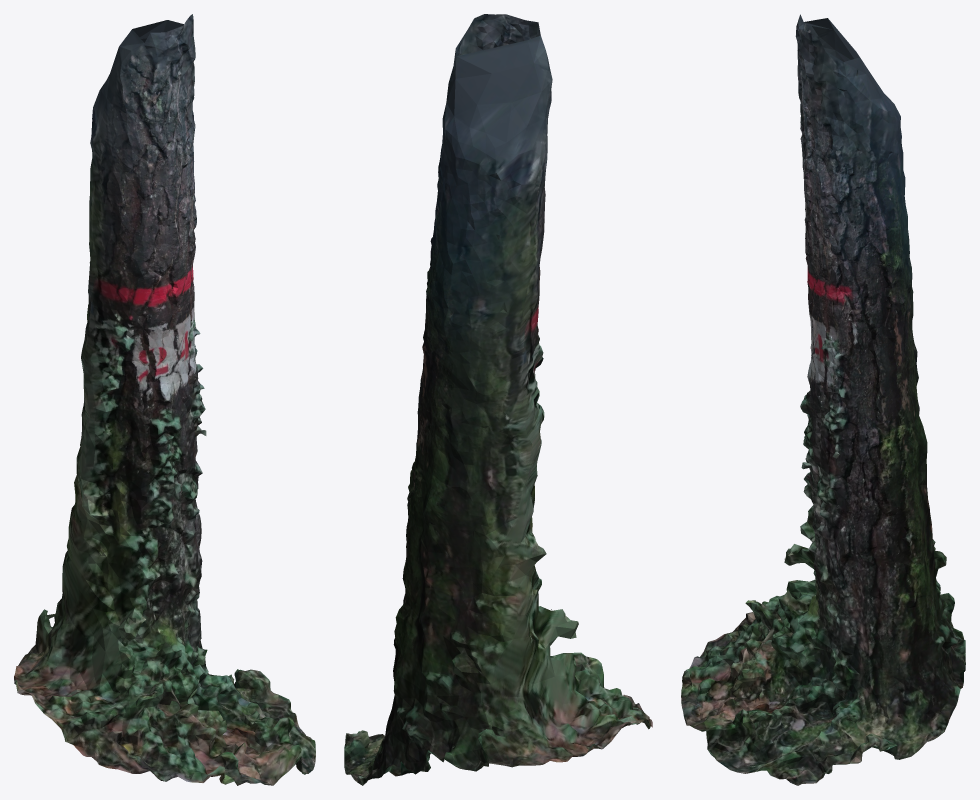
The model's file is 24tree-tronc-03.fbx.
The picture shows the model from 3 angles, left to right: view 1: azimuth 30°, elevation 25°; view 2: azimuth 150°, elevation 25°; view 3: azimuth 270°, elevation 25°; orthographic projection. The views are drawn at different scales.
Visible parts, largest first — view 1: meshes[0]; view 2: meshes[0]; view 3: meshes[0].
Boxes of the visible parts, x1,y1,x2,y2 form: meshes[0]: [14, 14, 315, 785]; meshes[0]: [344, 14, 652, 785]; meshes[0]: [681, 14, 965, 785].
Bounding box in the file's own units: 0.6163 × 1.68 × 0.6162.
1 material, 1 textured.
